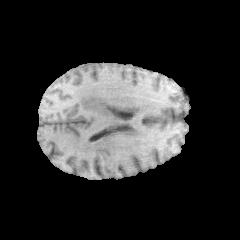glioma: (74, 84, 117, 115)
